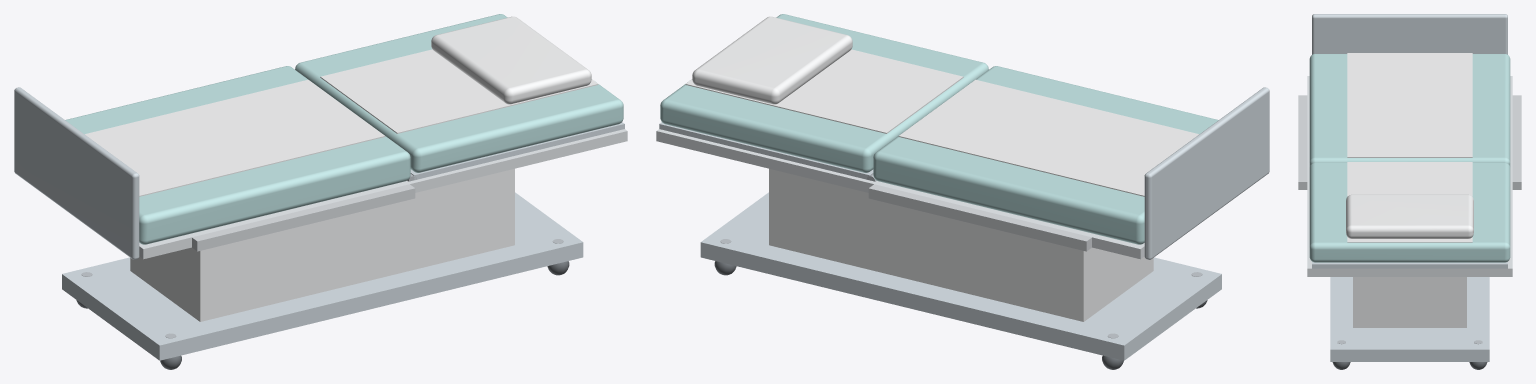
File: bed.glb
3 views of the same model, side by side, from view 1: azimuth 30°, elevation 25°; view 2: azimuth 150°, elevation 25°; view 3: azimuth 270°, elevation 25° (orthographic). The views are drawn at different scales.
Parts seen in each view (by area): view 1: frame, backrest; view 2: frame, backrest; view 3: frame, backrest.
Boxes of the visible parts, x1=… form: frame: x1=14, y1=66, x2=627, y2=369; backrest: x1=295, y1=14, x2=624, y2=180; frame: x1=656, y1=66, x2=1269, y2=369; backrest: x1=659, y1=14, x2=988, y2=179; frame: x1=1298, y1=14, x2=1521, y2=369; backrest: x1=1309, y1=162, x2=1510, y2=268.
Size of the model in its own units: 2.03 by 0.87 by 0.98.
